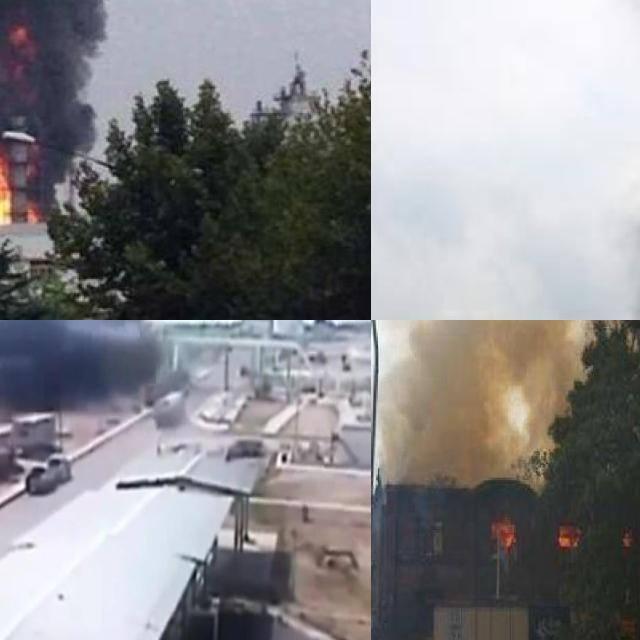fire: (0, 143, 21, 222), (490, 515, 514, 547), (555, 522, 579, 546)
smoke: (371, 320, 640, 480), (519, 0, 640, 320), (0, 320, 165, 414)
